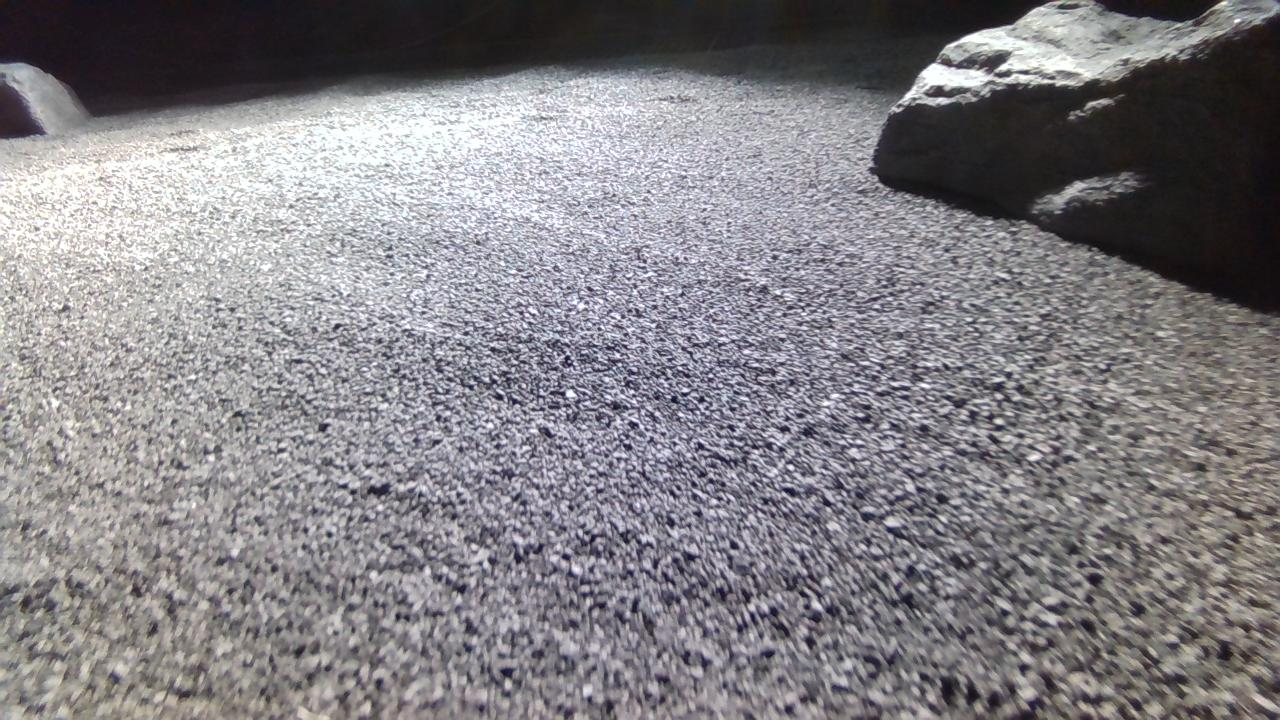rock: (876, 1, 1280, 300), (0, 61, 89, 136)
